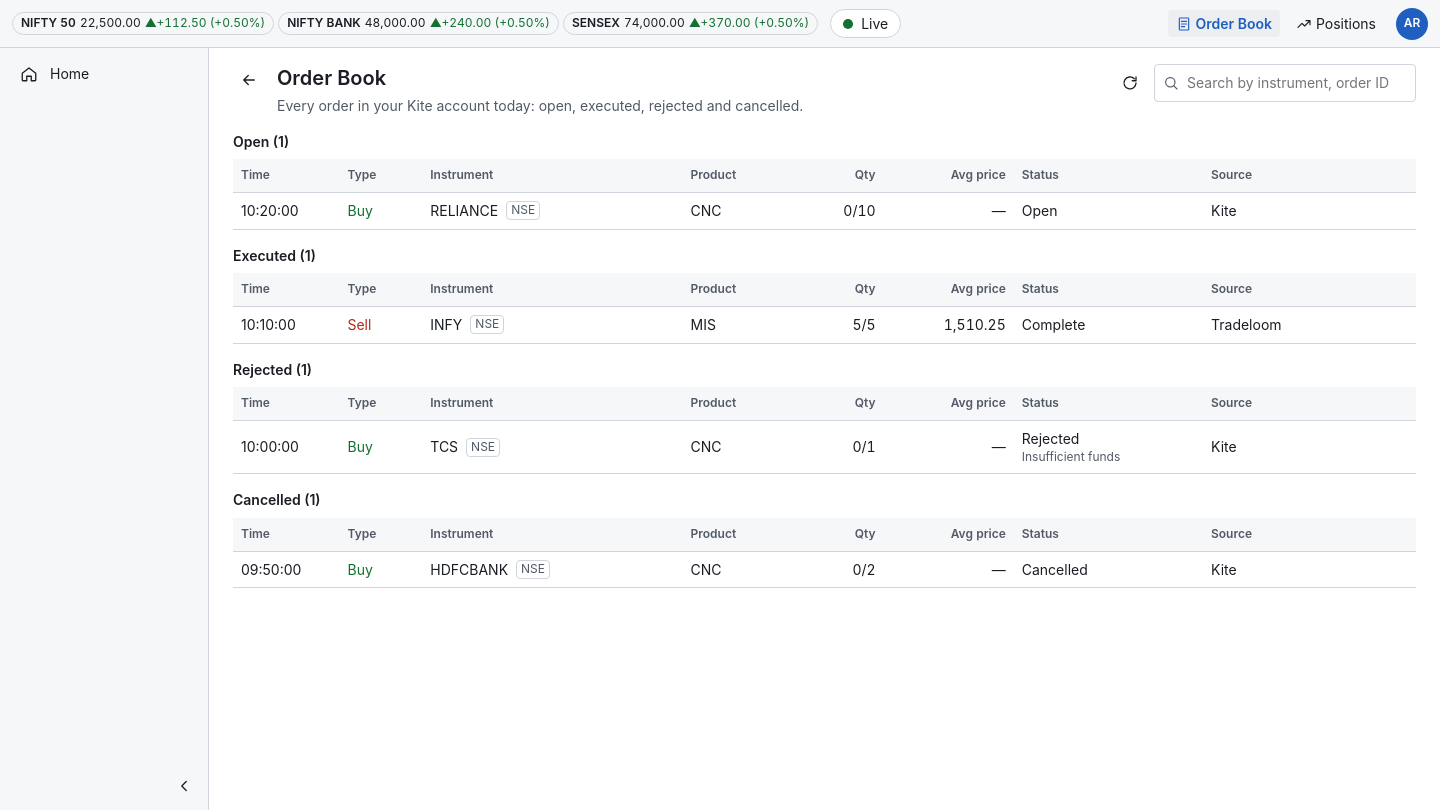
Test: FR-ORD-001 Order book (read-only in P0) › searches by instrument, order ID or source
Expected: the heading "Open (1)" is shown, [233, 133, 289, 150]
Type "000003" into the search field named "Search order book". click: (1297, 83)
box: [1187, 65, 1407, 101]
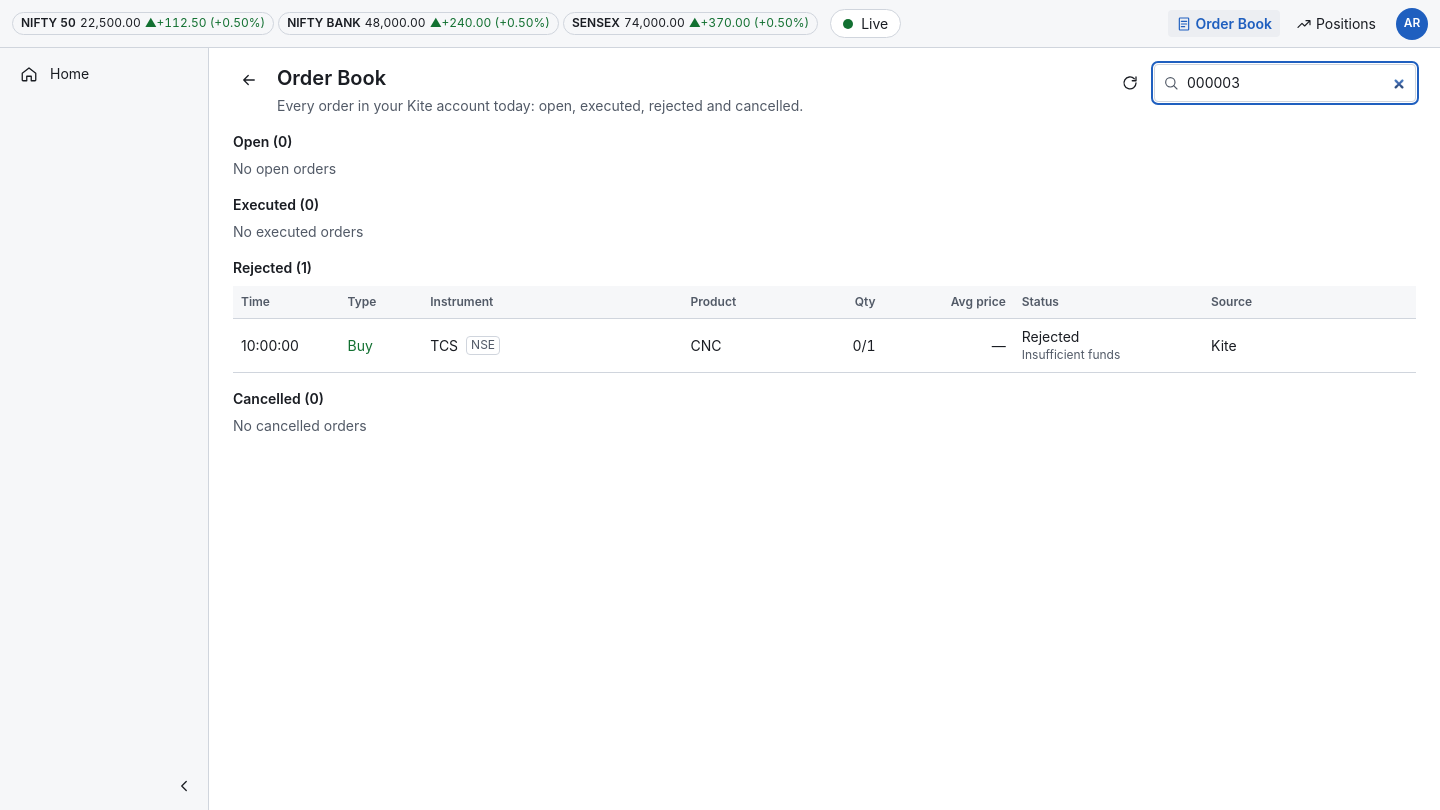
Expected: the heading "Rejected (1)" is shown, [233, 259, 312, 276]
Expected: the heading "Open (0)" is shown, [233, 133, 293, 150]
